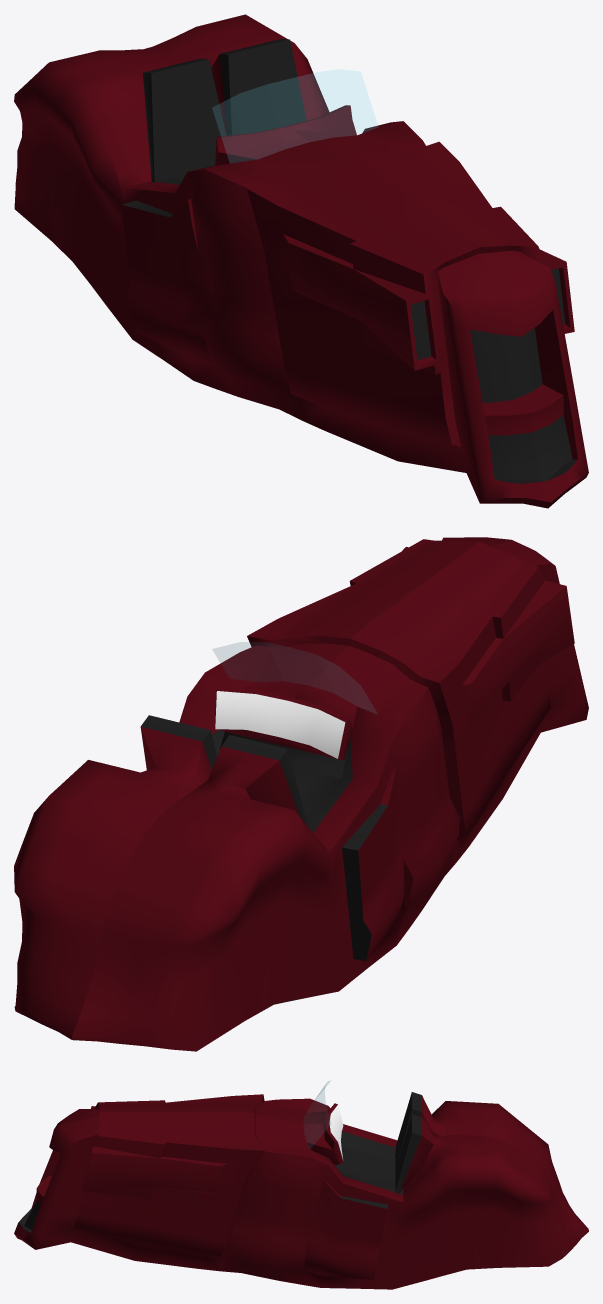
The model's file is NashTT.Body.glb.
3 views of the same model, one above another, from view 1: azimuth 30°, elevation 25°; view 2: azimuth 150°, elevation 25°; view 3: azimuth 270°, elevation 25° (orthographic). The views are drawn at different scales.
Visible parts, largest first — view 1: Cube; view 2: Cube; view 3: Cube.
Part boxes in pixels (<box>): Cube: <box>14,14,588,508</box>; Cube: <box>14,537,588,1051</box>; Cube: <box>14,1081,588,1289</box>.
Size of the model in its own units: 1.57 by 1.69 by 5.29.
